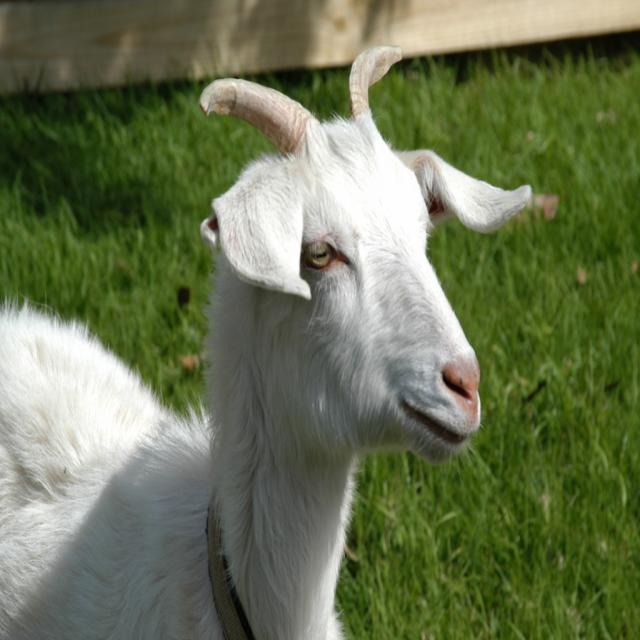Goat: (0, 45, 532, 640)
